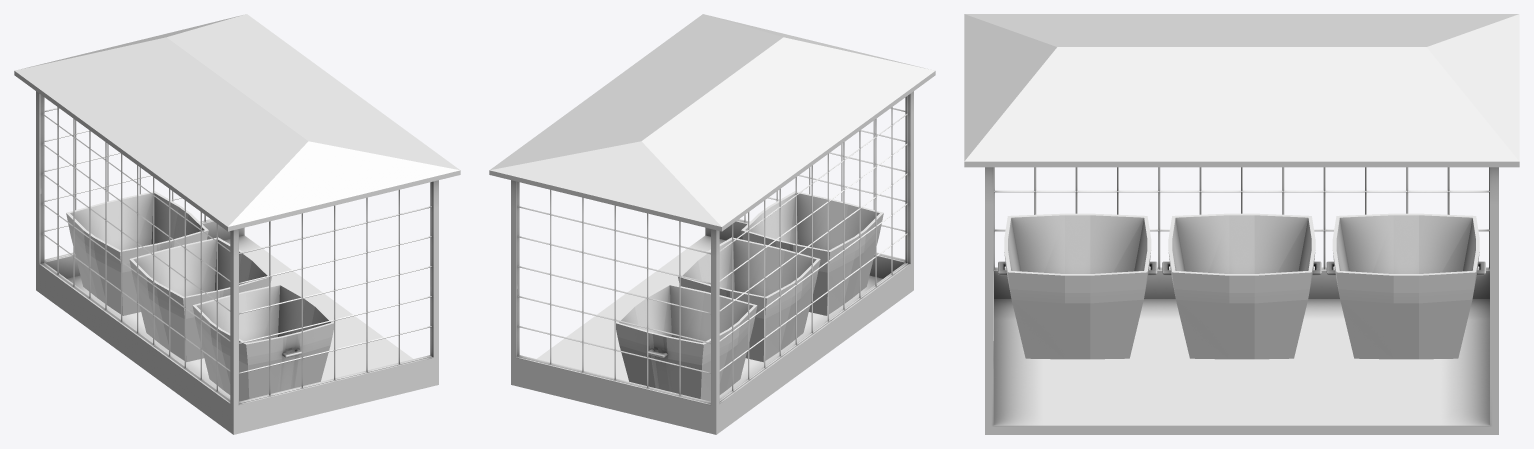
File: TrashStation.fbx
The picture shows the model from 3 angles, left to right: view 1: azimuth 30°, elevation 25°; view 2: azimuth 150°, elevation 25°; view 3: azimuth 270°, elevation 25°; orthographic projection. The views are drawn at different scales.
Visible parts, largest first — view 1: TrashStation, TrashContainer, TrashContainer.002, TrashContainer.001; view 2: TrashStation, TrashContainer.002, TrashContainer, TrashContainer.001; view 3: TrashStation, TrashContainer, TrashContainer.002, TrashContainer.001.
Boxes of the visible parts, x1,y1,x2,y2 form: TrashStation: (14, 14, 460, 434); TrashContainer: (192, 283, 333, 401); TrashContainer.002: (66, 191, 208, 315); TrashContainer.001: (129, 237, 271, 362); TrashStation: (489, 14, 935, 434); TrashContainer.002: (616, 283, 757, 401); TrashContainer: (741, 191, 883, 315); TrashContainer.001: (678, 237, 820, 362); TrashStation: (964, 14, 1519, 434); TrashContainer: (998, 213, 1157, 359); TrashContainer.002: (1326, 213, 1485, 359); TrashContainer.001: (1162, 213, 1321, 359).
Bounding box in the file's own units: 0.4569 × 0.466 × 0.7266.
